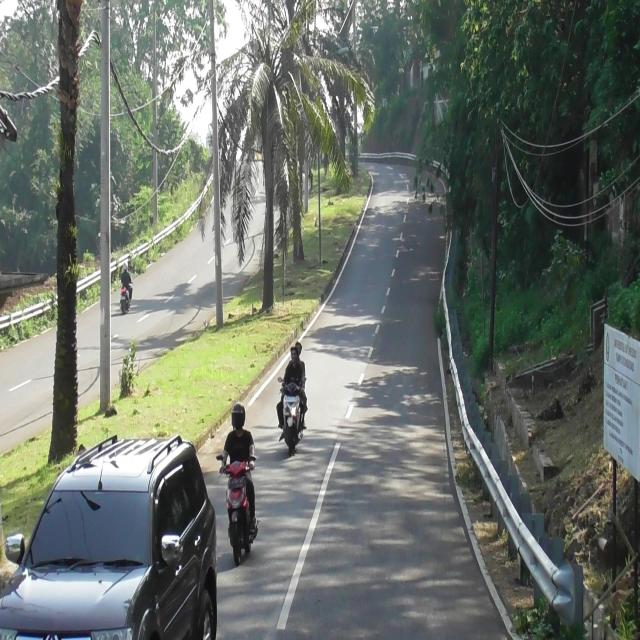motorcycle: (218, 454, 261, 560), (276, 374, 306, 460), (122, 286, 130, 314)
person: (224, 404, 257, 528), (277, 342, 308, 430), (279, 346, 304, 436), (122, 263, 132, 302)
rider_region: (218, 402, 261, 567), (277, 341, 309, 457), (120, 260, 134, 314)
